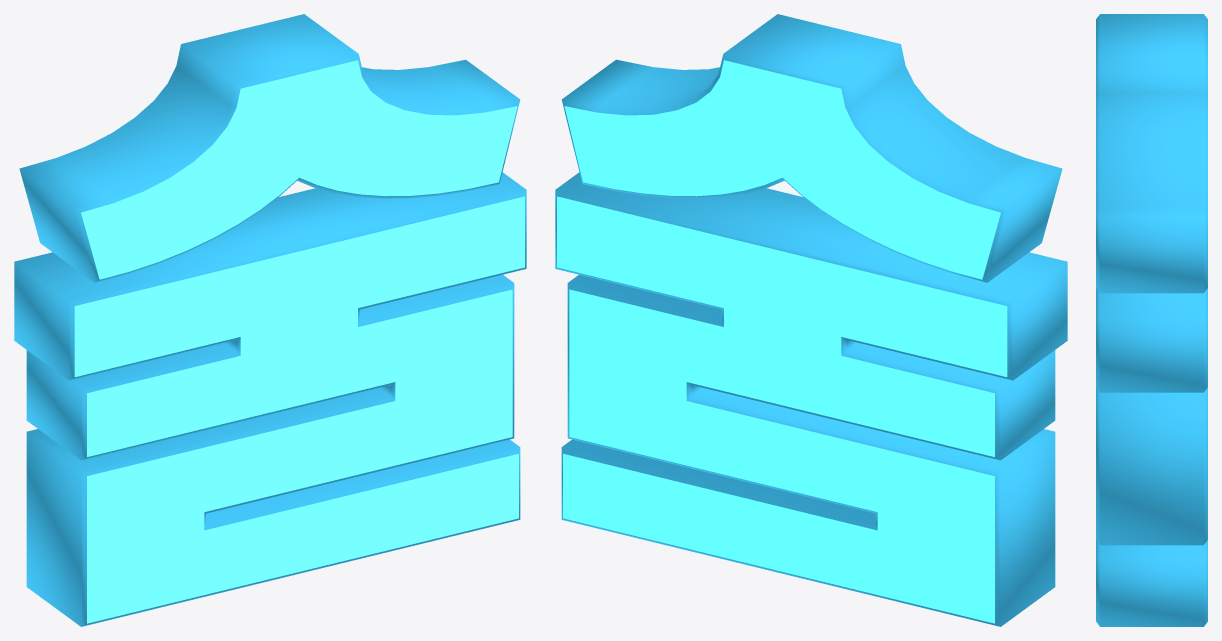
3 views of the same model, side by side, from view 1: azimuth 30°, elevation 25°; view 2: azimuth 150°, elevation 25°; view 3: azimuth 270°, elevation 25° (orthographic). The views are drawn at different scales.
Visible parts, largest first — view 1: glyph; view 2: glyph; view 3: glyph.
Boxes of the visible parts, <box> form: glyph: <box>14,14,526,626</box>; glyph: <box>555,14,1067,626</box>; glyph: <box>1096,14,1207,626</box>.
Bounding box in the file's own units: 0.0728 × 0.0768 × 0.0162.
